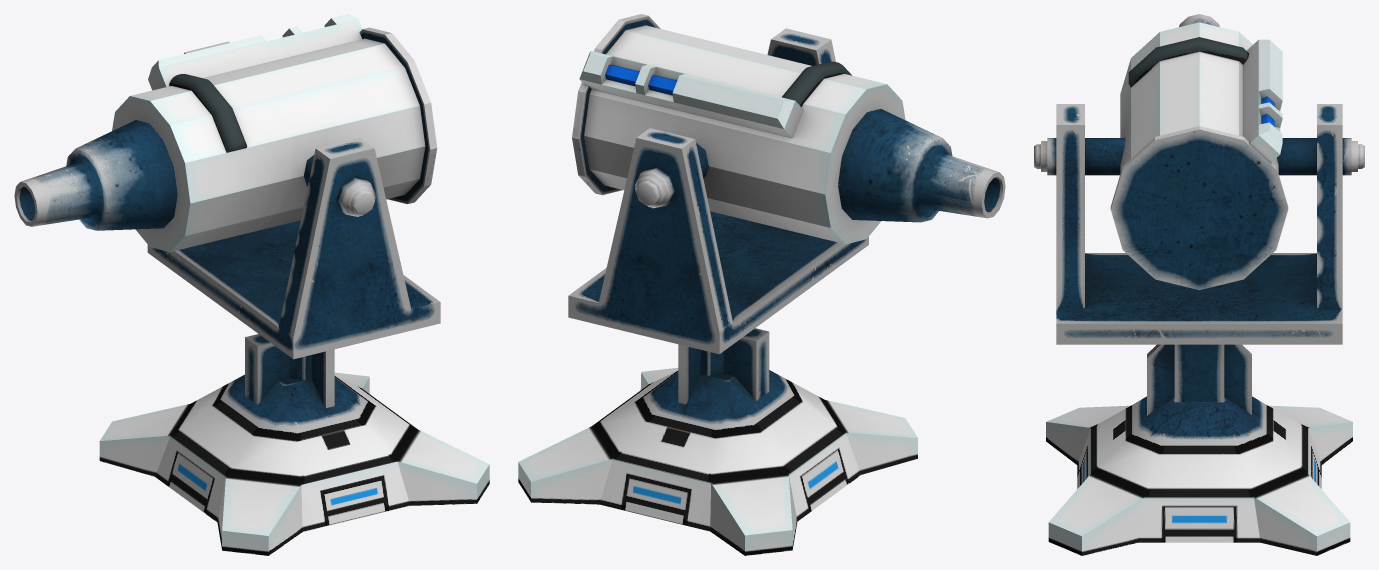
The model's file is Turret-Rigged.fbx.
3 views of the same model, side by side, from view 1: azimuth 30°, elevation 25°; view 2: azimuth 150°, elevation 25°; view 3: azimuth 270°, elevation 25° (orthographic). The views are drawn at different scales.
Visible parts, largest first — view 1: turret.002, turret, turret.001; view 2: turret.002, turret, turret.001; view 3: turret, turret.002, turret.001.
Part boxes in pixels (x1,y1,x2,y2): turret.002: (14, 14, 437, 251); turret: (99, 334, 489, 555); turret.001: (147, 41, 440, 359); turret.002: (572, 14, 1005, 244); turret: (518, 328, 917, 555); turret.001: (568, 28, 868, 354); turret: (1046, 344, 1352, 555); turret.002: (1034, 14, 1364, 290); turret.001: (1056, 104, 1342, 344).
Bounding box in the file's own units: 120 × 118 × 86.66.
Materials: 1 (1 with a texture image).
